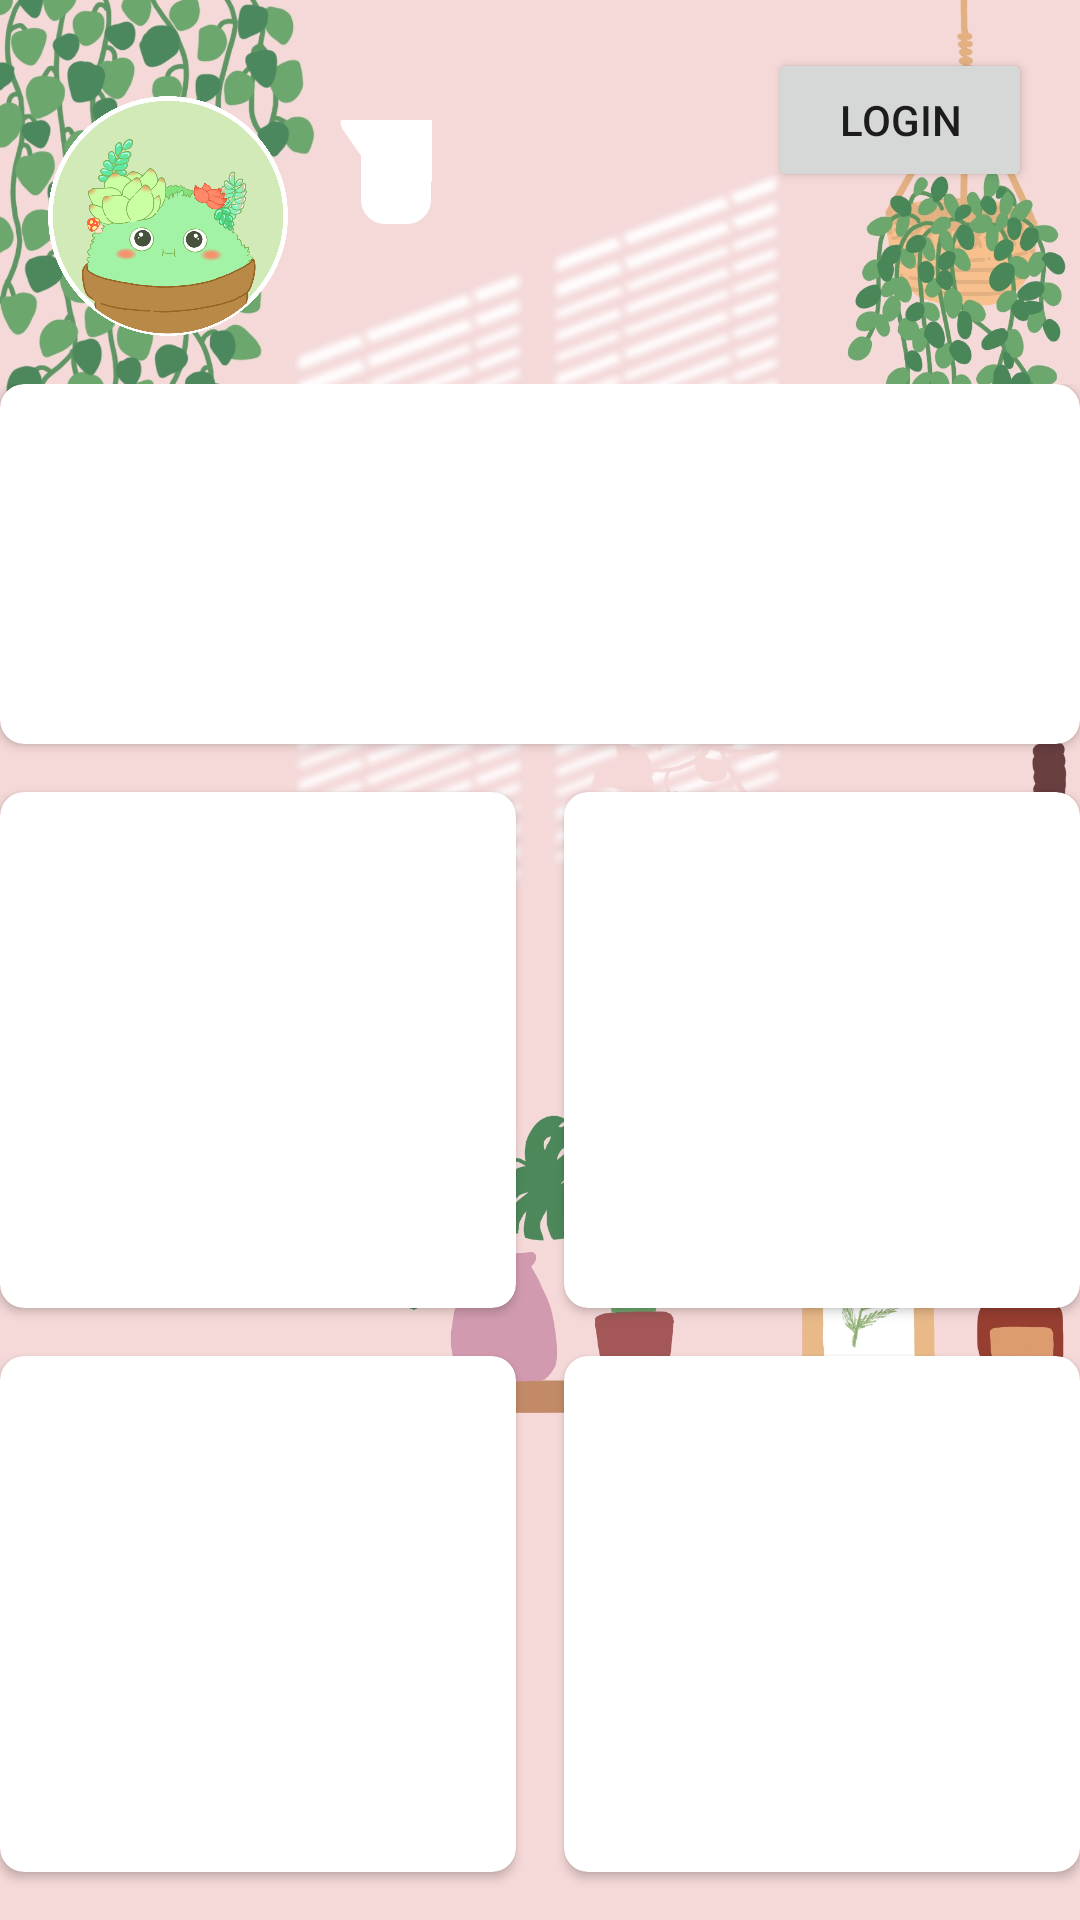

Icon click points for this 1080×1920 phone screenshot, format point (x, y):
leafy round: point (168, 216)
